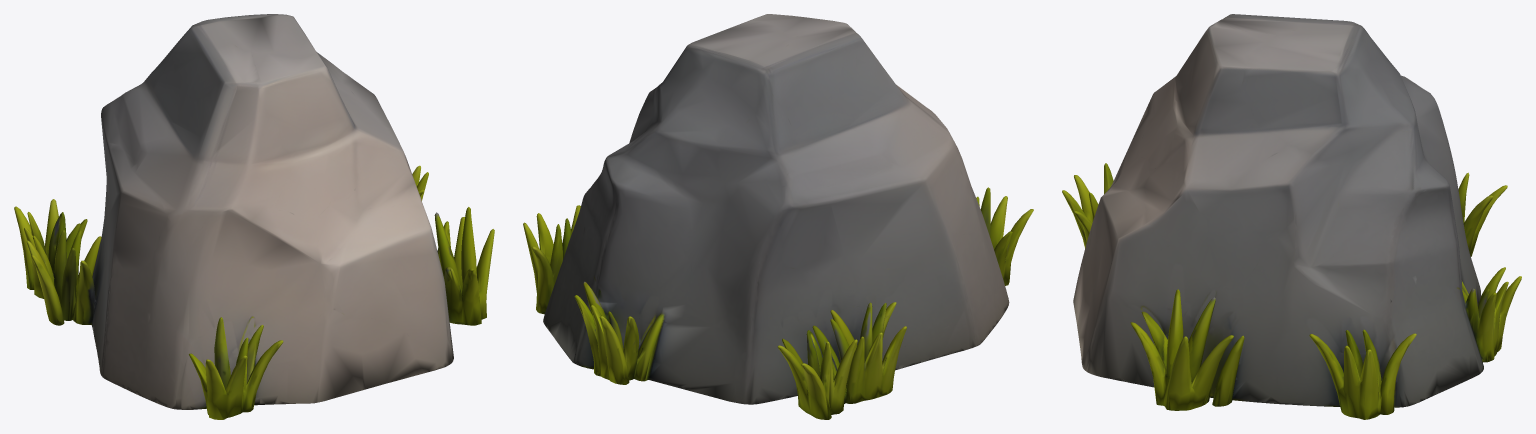
File: rock.glb
3 renders of one model, left to right at view 1: azimuth 30°, elevation 25°; view 2: azimuth 150°, elevation 25°; view 3: azimuth 270°, elevation 25°, orthographic. The views are drawn at different scales.
Visible parts, largest first — view 1: node_0; view 2: node_0; view 3: node_0.
Boxes of the visible parts, x1,y1,x2,y2 form: node_0: (14, 14, 494, 419); node_0: (523, 14, 1033, 419); node_0: (1062, 14, 1521, 419).
Size of the model in its own units: 0.8789 by 0.6071 by 0.8846.
Materials: 1 (1 with a texture image).
